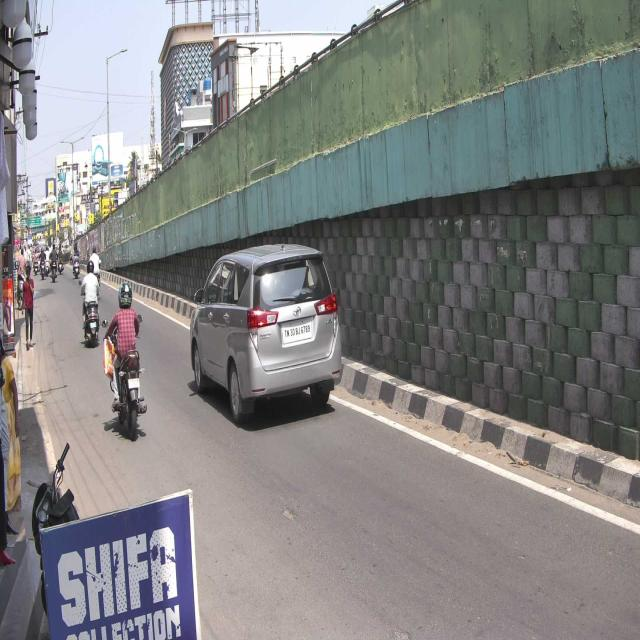single_rider: (102, 278, 148, 438)
